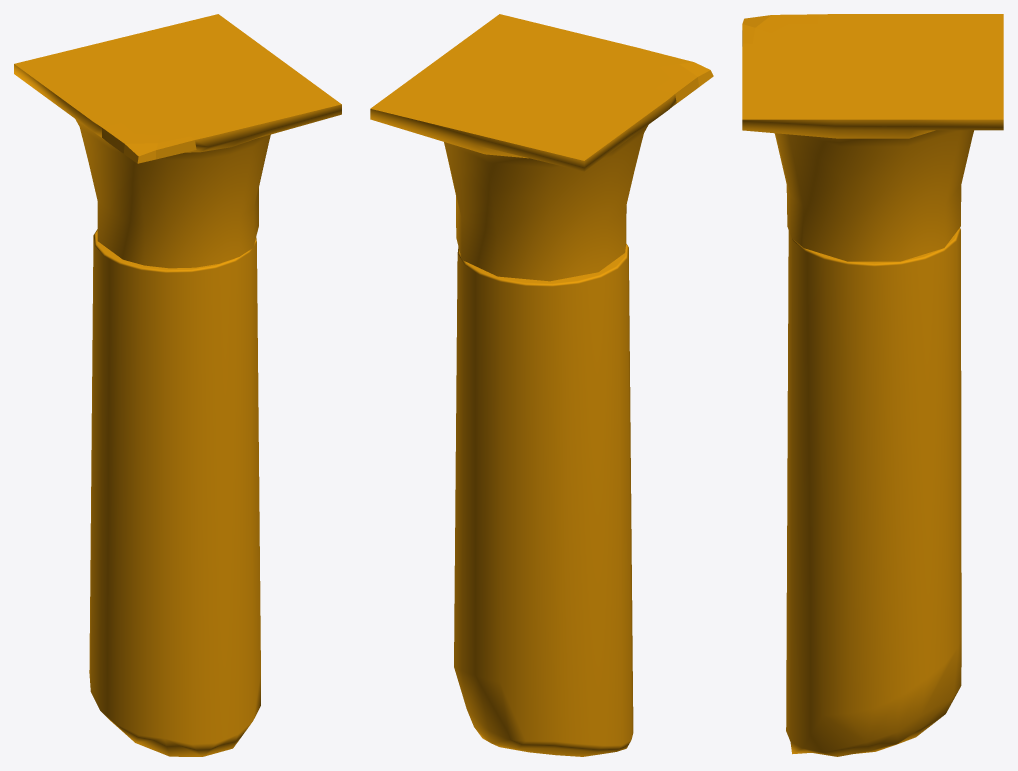
The model's file is Pillar_05_Lod1.fbx.
3 views of the same model, side by side, from view 1: azimuth 30°, elevation 25°; view 2: azimuth 150°, elevation 25°; view 3: azimuth 270°, elevation 25° (orthographic). The views are drawn at different scales.
Parts seen in each view (by area): view 1: Pillar_05_Lod1; view 2: Pillar_05_Lod1; view 3: Pillar_05_Lod1.
Boxes of the visible parts, x1,y1,x2,y2 form: Pillar_05_Lod1: (14, 14, 341, 756); Pillar_05_Lod1: (370, 14, 713, 756); Pillar_05_Lod1: (742, 14, 1003, 756).
Size of the model in its own units: 354 by 1060 by 370.
